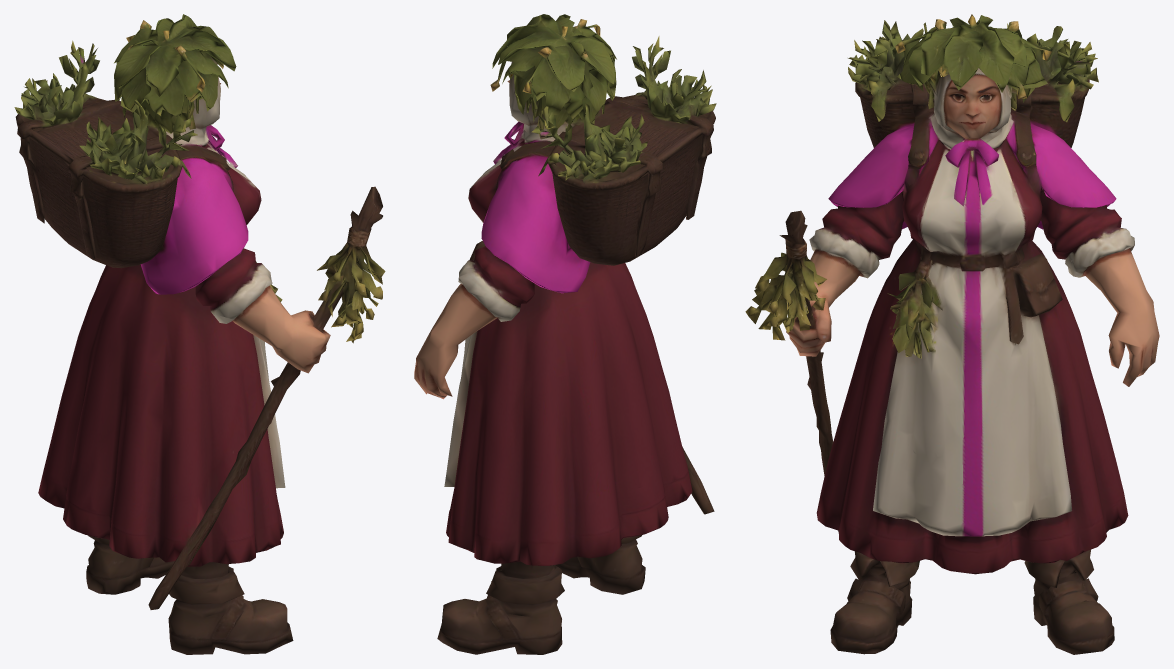
File: model_tripo_h31.glb
3 renders of one model, left to right at view 1: azimuth 30°, elevation 25°; view 2: azimuth 150°, elevation 25°; view 3: azimuth 270°, elevation 25°, orthographic. The views are drawn at different scales.
Visible parts, largest first — view 1: tripo_node_b8f45fbf-e698-44b1-96e1-bdb54c785a2a; view 2: tripo_node_b8f45fbf-e698-44b1-96e1-bdb54c785a2a; view 3: tripo_node_b8f45fbf-e698-44b1-96e1-bdb54c785a2a.
Part boxes in pixels (x1,y1,x2,y2): tripo_node_b8f45fbf-e698-44b1-96e1-bdb54c785a2a: [14, 14, 385, 654]; tripo_node_b8f45fbf-e698-44b1-96e1-bdb54c785a2a: [414, 14, 716, 654]; tripo_node_b8f45fbf-e698-44b1-96e1-bdb54c785a2a: [745, 14, 1159, 654].
Bounding box in the file's own units: 0.4533 × 1 × 0.617.
Materials: 1 (1 with a texture image).
